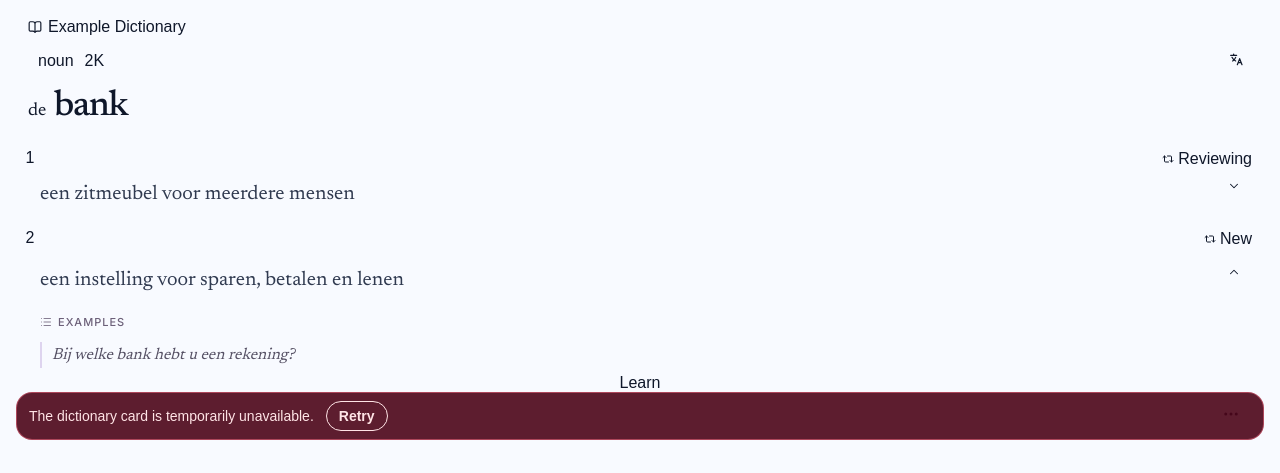
LibrarySenseCardV2Session › completion refresh failure exposes retry instead of permanent loading
Step 1. Click the button "Retry" → (357, 416), box [326,401,388,431]
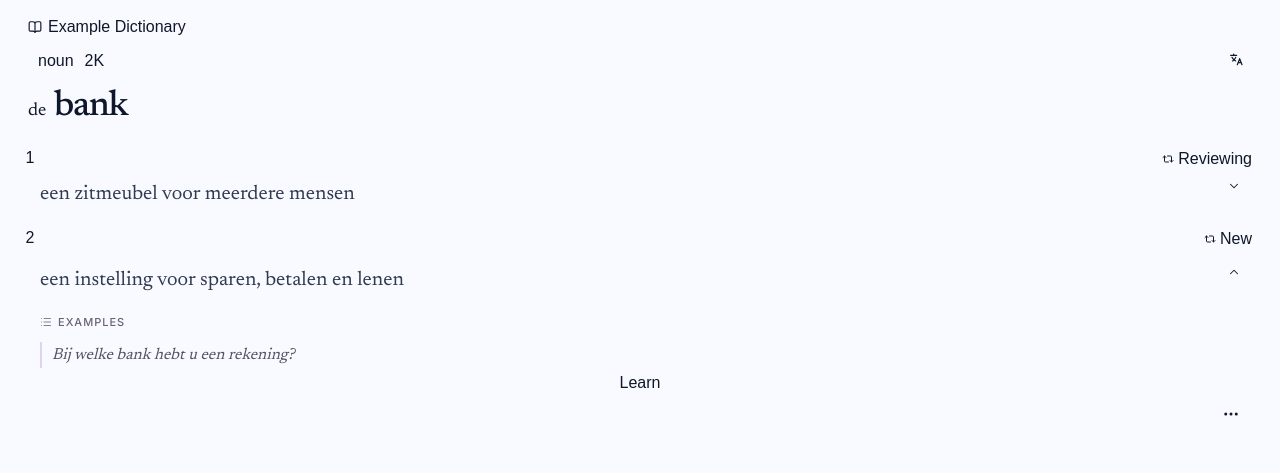
Check: the button "Retry" is gone
